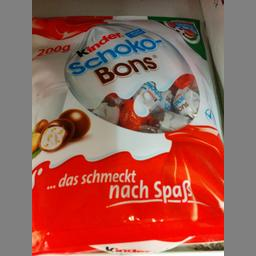chocolate: (31, 15, 223, 255)
